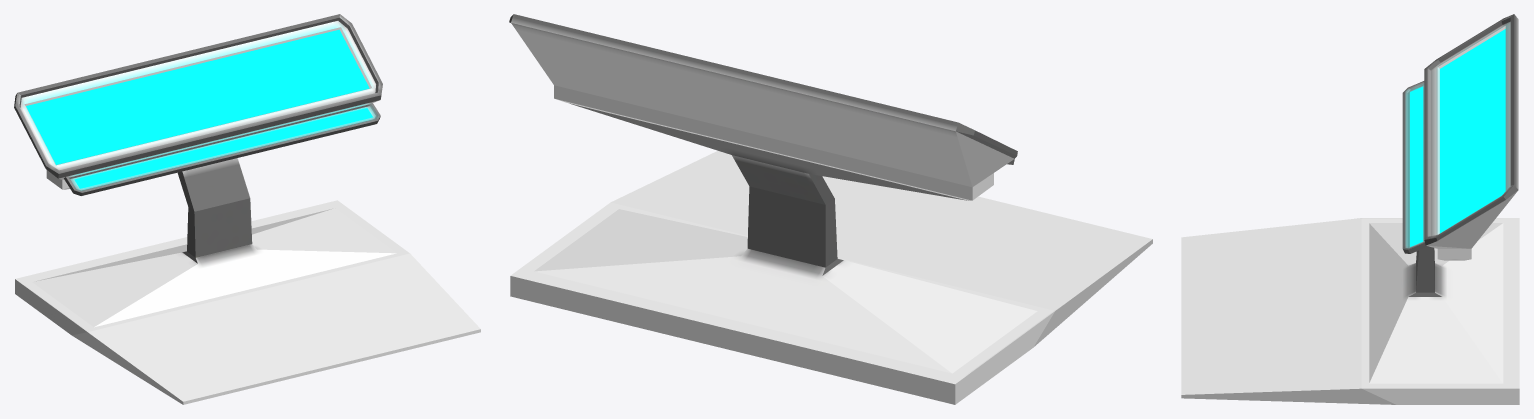
The model's file is Storage_Game_Control.fbx.
3 renders of one model, left to right at view 1: azimuth 30°, elevation 25°; view 2: azimuth 150°, elevation 25°; view 3: azimuth 270°, elevation 25°, orthographic. The views are drawn at different scales.
Visible parts, largest first — view 1: Storage_Game_Control; view 2: Storage_Game_Control; view 3: Storage_Game_Control.
Part boxes in pixels (box(x1,y1,x2,y2)): Storage_Game_Control: box(14, 14, 480, 404); Storage_Game_Control: box(509, 14, 1152, 404); Storage_Game_Control: box(1181, 14, 1519, 404).
Size of the model in its own units: 657 by 378 by 526.
